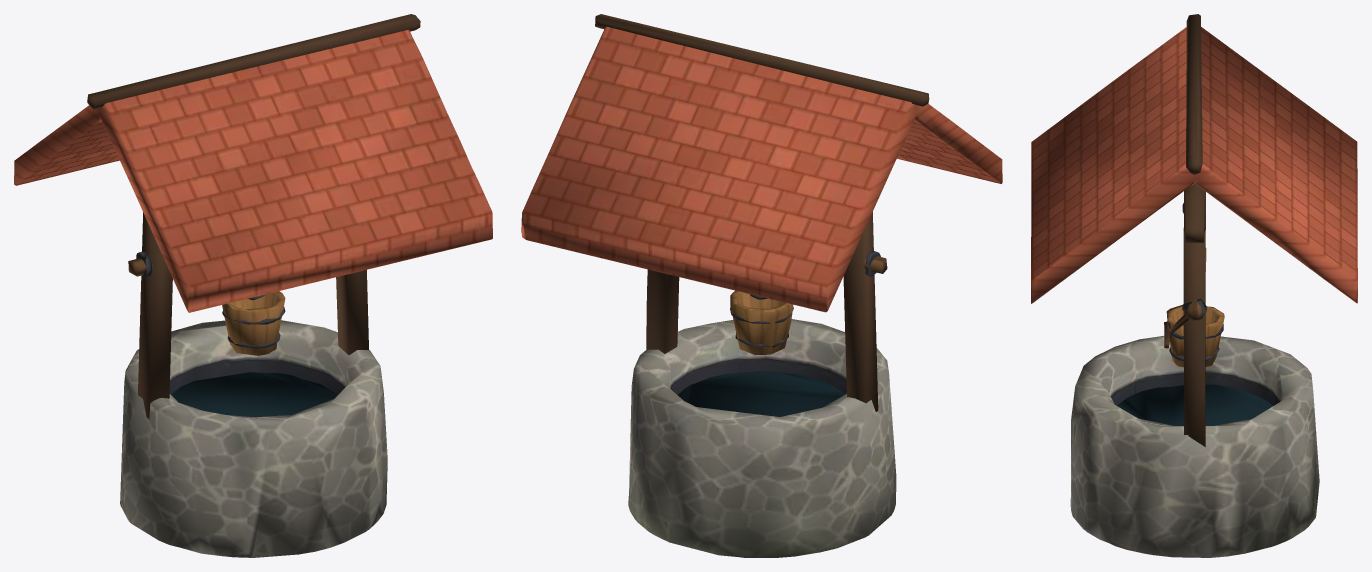
Rendered from well.glb.
3 views of the same model, side by side, from view 1: azimuth 30°, elevation 25°; view 2: azimuth 150°, elevation 25°; view 3: azimuth 270°, elevation 25° (orthographic). The views are drawn at different scales.
Parts seen in each view (by area): view 1: ring; view 2: ring; view 3: ring.
Part boxes in pixels (left/top/right/bottom): ring: left=14, top=14, right=492, bottom=557; ring: left=521, top=14, right=1002, bottom=557; ring: left=1031, top=14, right=1357, bottom=557.
Size of the model in its own units: 2.05 by 2.67 by 1.87.
1 material, 1 textured.
